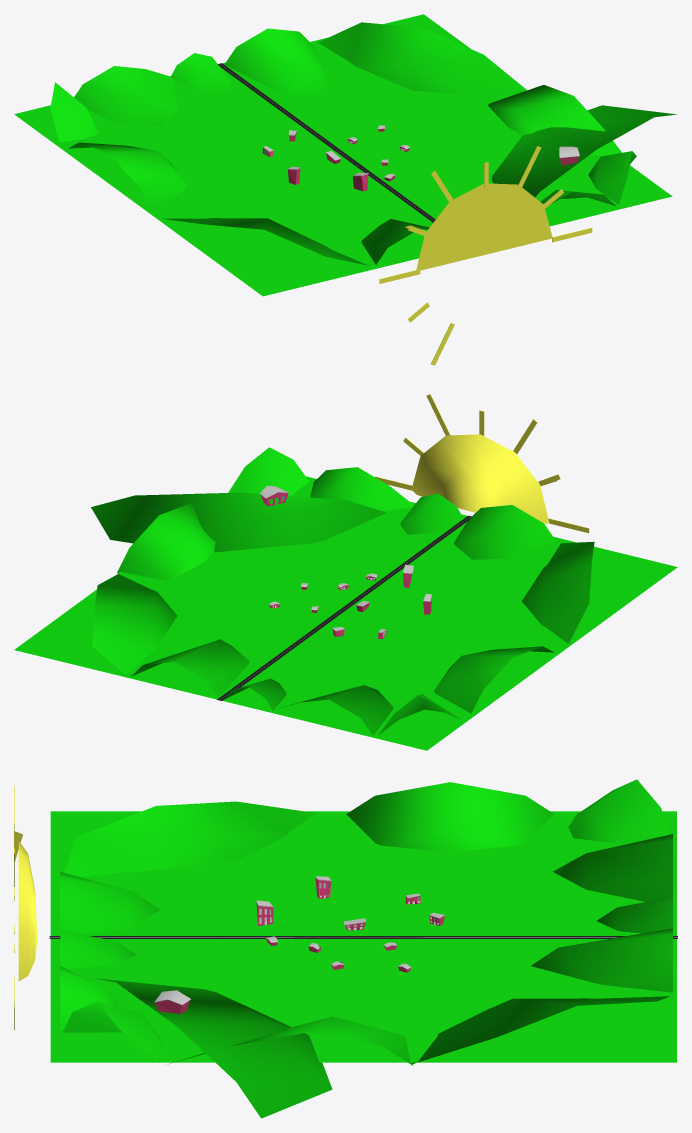
The model's file is ENVO_CartoonLand.obj.
3 renders of one model, top to bottom at view 1: azimuth 30°, elevation 25°; view 2: azimuth 150°, elevation 25°; view 3: azimuth 270°, elevation 25°, orthographic. The views are drawn at different scales.
Visible parts, largest first — view 1: CartoonLand, Sun; view 2: CartoonLand, Sun; view 3: CartoonLand, Sun.
Boxes of the visible parts, box(x1,y1,x2,y2) form: CartoonLand: box(14, 14, 677, 296); Sun: box(379, 146, 592, 365); CartoonLand: box(14, 447, 677, 750); Sun: box(375, 394, 589, 533); CartoonLand: box(49, 779, 677, 1118); Sun: box(14, 785, 37, 1029).
Size of what is drawn, in the model's own units: 24107 by 8995 by 22093.
Materials: 7 (4 with a texture image).
